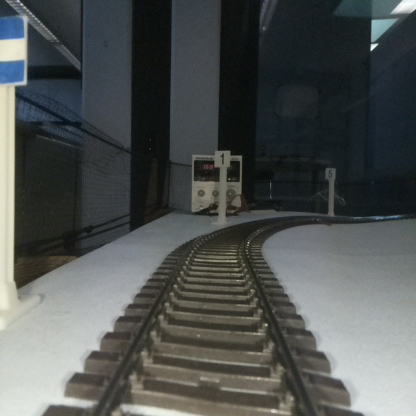white-info-1: (215, 150, 229, 223)
white-info-5: (326, 167, 335, 214)
